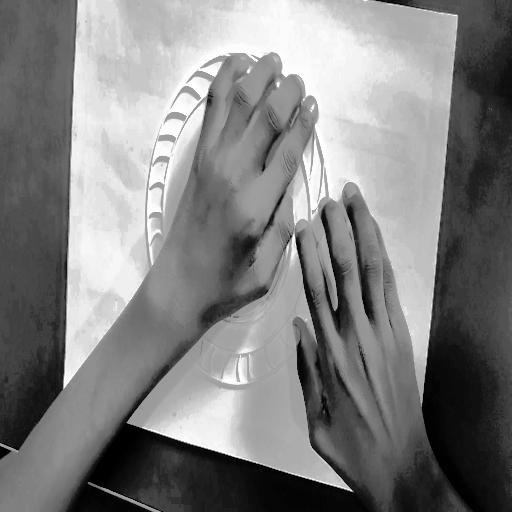bottom_left: (59, 402, 68, 422)
bottom_right: (402, 489, 409, 505)
tire: (121, 30, 349, 419)
top_right: (454, 8, 464, 25)
